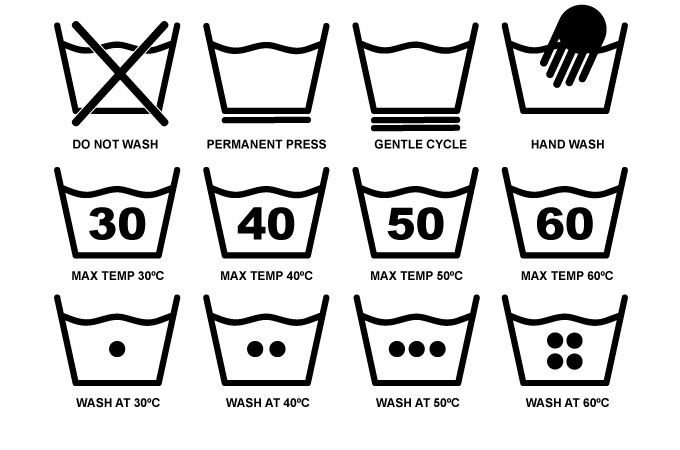do_not_wash: (37, 14, 180, 131)
